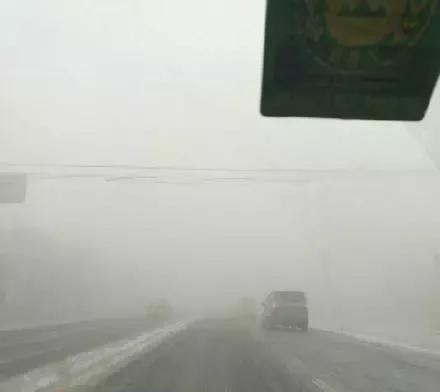car: (261, 289, 309, 332), (146, 297, 174, 318)
